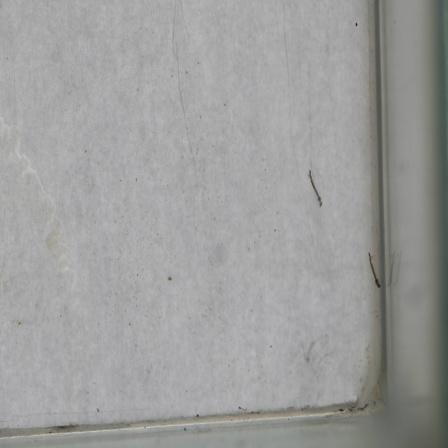Jentik-Nyamuk: (366, 247, 385, 294), (306, 167, 326, 211)
